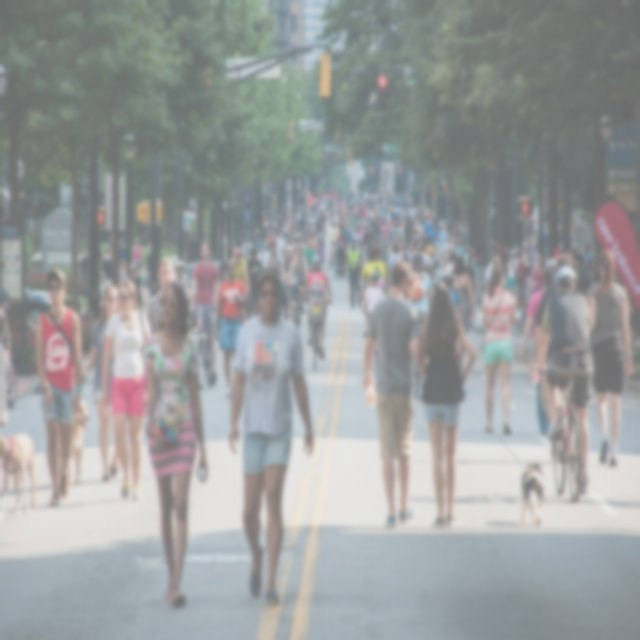pessoa: (228, 259, 316, 610), (140, 280, 210, 616), (360, 260, 424, 532), (240, 182, 470, 248), (417, 278, 477, 530), (536, 266, 594, 494), (100, 276, 152, 502), (34, 266, 82, 508), (588, 250, 634, 470), (530, 252, 576, 440), (80, 284, 121, 484), (479, 262, 518, 438), (521, 263, 557, 442), (187, 238, 221, 391), (214, 257, 248, 399), (302, 254, 334, 362), (450, 255, 478, 374), (358, 243, 388, 341), (146, 254, 177, 337), (264, 235, 290, 322), (408, 252, 434, 330), (287, 247, 311, 326), (0, 286, 15, 412), (616, 271, 640, 347), (0, 303, 12, 440), (344, 233, 364, 310), (244, 246, 264, 320), (224, 245, 252, 292), (125, 262, 149, 314), (386, 242, 405, 296), (464, 254, 476, 329), (512, 248, 526, 312), (100, 245, 114, 308), (84, 232, 98, 294), (172, 258, 190, 302), (570, 242, 584, 296), (583, 240, 596, 298), (240, 236, 254, 289), (512, 248, 524, 308), (530, 252, 546, 296), (418, 242, 434, 286), (335, 228, 349, 278), (463, 245, 478, 291), (591, 245, 606, 288), (506, 248, 519, 296), (436, 222, 449, 270), (317, 222, 329, 272), (483, 254, 502, 284), (442, 234, 458, 268), (520, 246, 532, 290), (302, 240, 317, 274), (132, 236, 144, 277), (502, 239, 512, 281), (256, 241, 270, 270), (542, 222, 550, 271), (525, 214, 535, 253), (361, 223, 376, 249), (494, 236, 506, 266), (409, 228, 422, 255), (380, 230, 390, 264), (352, 224, 364, 252), (189, 230, 199, 262), (567, 249, 579, 275), (329, 220, 340, 248), (292, 234, 306, 256), (444, 250, 456, 275), (547, 248, 562, 266), (530, 216, 539, 246), (275, 228, 286, 252), (394, 230, 404, 254), (403, 250, 413, 272), (118, 236, 126, 262), (471, 248, 484, 264), (456, 238, 466, 258), (255, 228, 262, 256), (328, 246, 336, 268), (280, 238, 290, 255), (288, 234, 298, 250), (419, 226, 427, 244), (105, 232, 114, 248), (569, 227, 575, 246), (490, 256, 500, 266), (147, 239, 152, 254)
